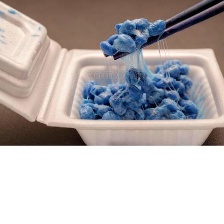foam_box: (0, 0, 224, 145)
